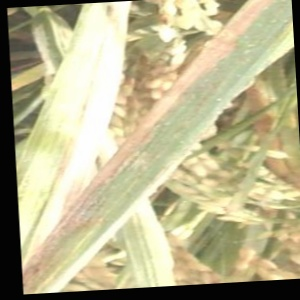Leaf_Blast: (209, 0, 300, 78)
